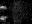person: (0, 15, 7, 22), (1, 6, 6, 11)
